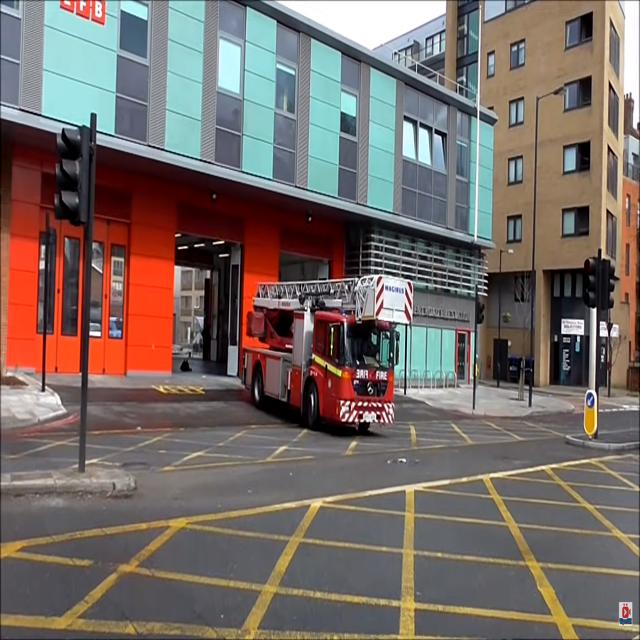emergency-vehicles: (217, 266, 448, 451)
